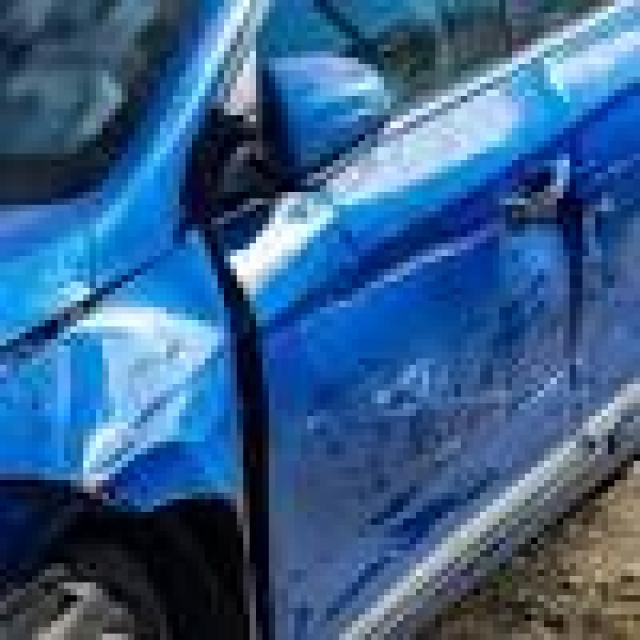moderate: (3, 26, 640, 640)
